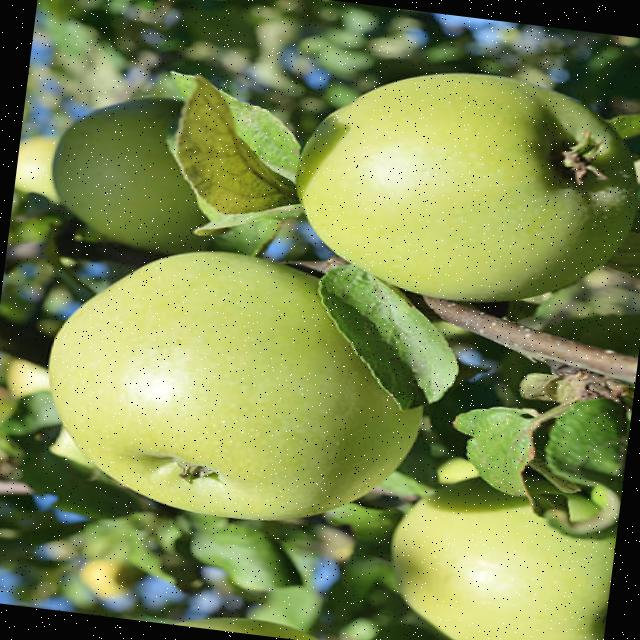Unripe: (31, 231, 440, 540), (279, 48, 640, 320), (374, 467, 621, 640)
